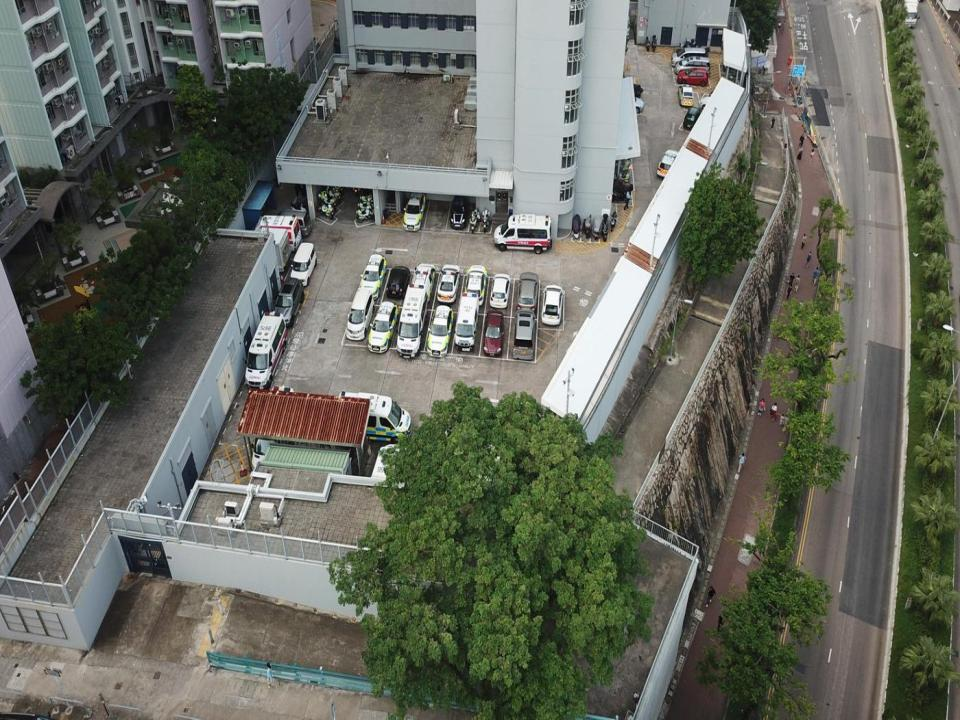car: (366, 302, 397, 354), (426, 306, 452, 356), (359, 253, 386, 300), (290, 241, 316, 285), (410, 262, 433, 305), (483, 309, 504, 356), (436, 264, 460, 302), (402, 193, 426, 231), (516, 272, 538, 312), (541, 284, 562, 324), (466, 265, 486, 306), (387, 266, 410, 300), (489, 273, 510, 309), (657, 148, 679, 182), (450, 195, 469, 229), (676, 68, 709, 87), (609, 96, 644, 113), (677, 83, 694, 107), (615, 82, 644, 96), (683, 106, 699, 131)
truck: (900, 0, 920, 33)
van: (271, 278, 304, 329), (346, 288, 375, 340), (270, 211, 311, 237), (513, 310, 534, 360), (674, 55, 710, 76), (672, 47, 706, 66)
